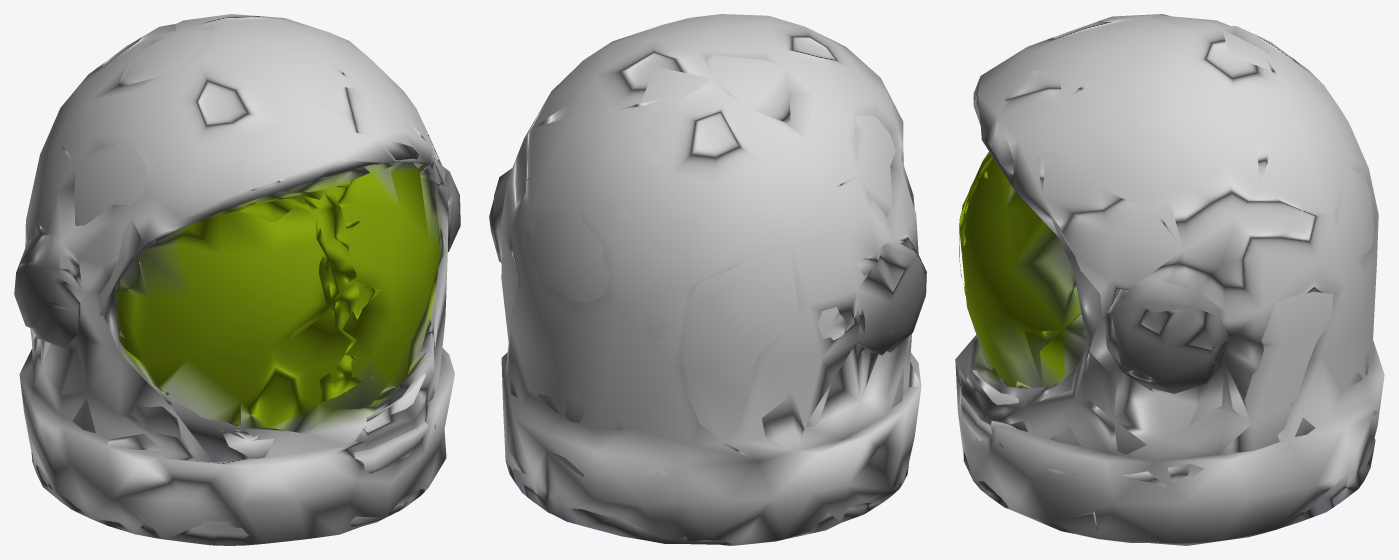
The model's file is gen3d-space-helmet-lod0.glb.
3 views of the same model, side by side, from view 1: azimuth 30°, elevation 25°; view 2: azimuth 150°, elevation 25°; view 3: azimuth 270°, elevation 25° (orthographic).
Visible parts, largest first — view 1: part_0; view 2: part_0; view 3: part_0.
Part boxes in pixels (x1,y1,x2,y2): part_0: (14, 14, 460, 545); part_0: (489, 14, 926, 545); part_0: (955, 14, 1384, 545).
Bounding box in the file's own units: 0.9985 × 0.9991 × 0.9068.
